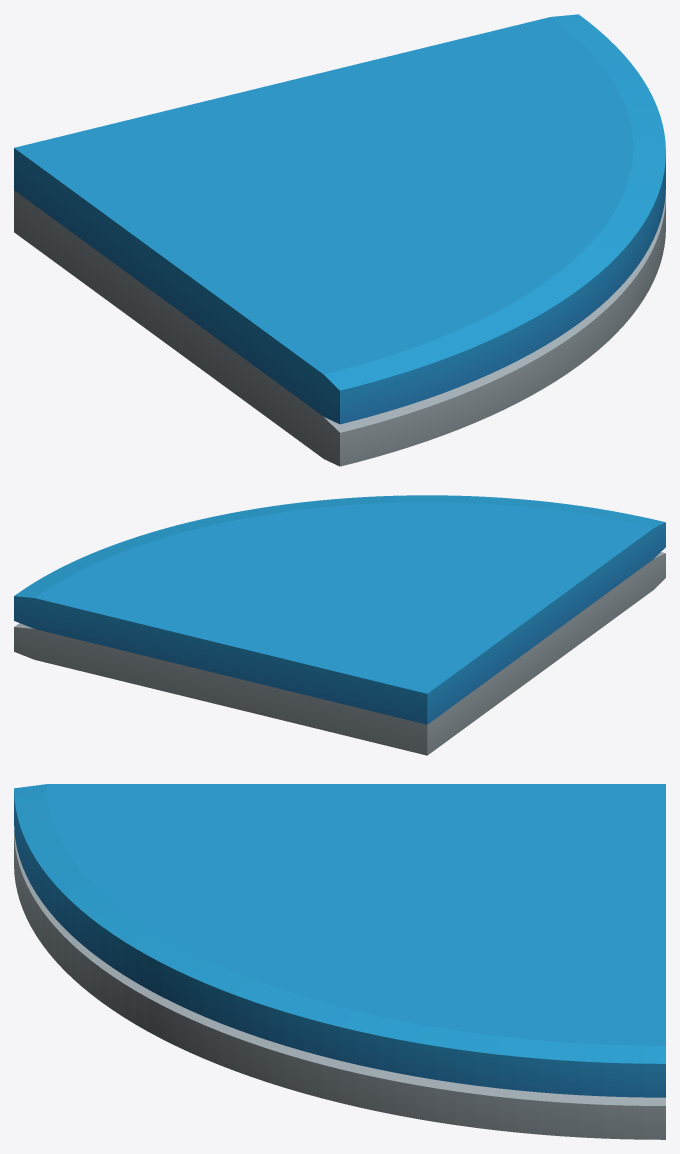
The model's file is kaykit_platform_quarter_circle_7x7x1_blue.glb.
3 views of the same model, one above another, from view 1: azimuth 30°, elevation 25°; view 2: azimuth 150°, elevation 25°; view 3: azimuth 270°, elevation 25° (orthographic). The views are drawn at different scales.
Visible parts, largest first — view 1: kaykit_platform_quarter_circle_blue_visual; view 2: kaykit_platform_quarter_circle_blue_visual; view 3: kaykit_platform_quarter_circle_blue_visual.
Boxes of the visible parts, x1,y1,x2,y2 form: kaykit_platform_quarter_circle_blue_visual: [14, 14, 665, 466]; kaykit_platform_quarter_circle_blue_visual: [14, 495, 665, 755]; kaykit_platform_quarter_circle_blue_visual: [14, 784, 665, 1139].
Size of what is drawn, in the model's own units: 7 by 1 by 7.
1 material, 1 textured.
